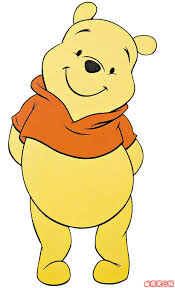Winnie: (25, 2, 152, 157)
